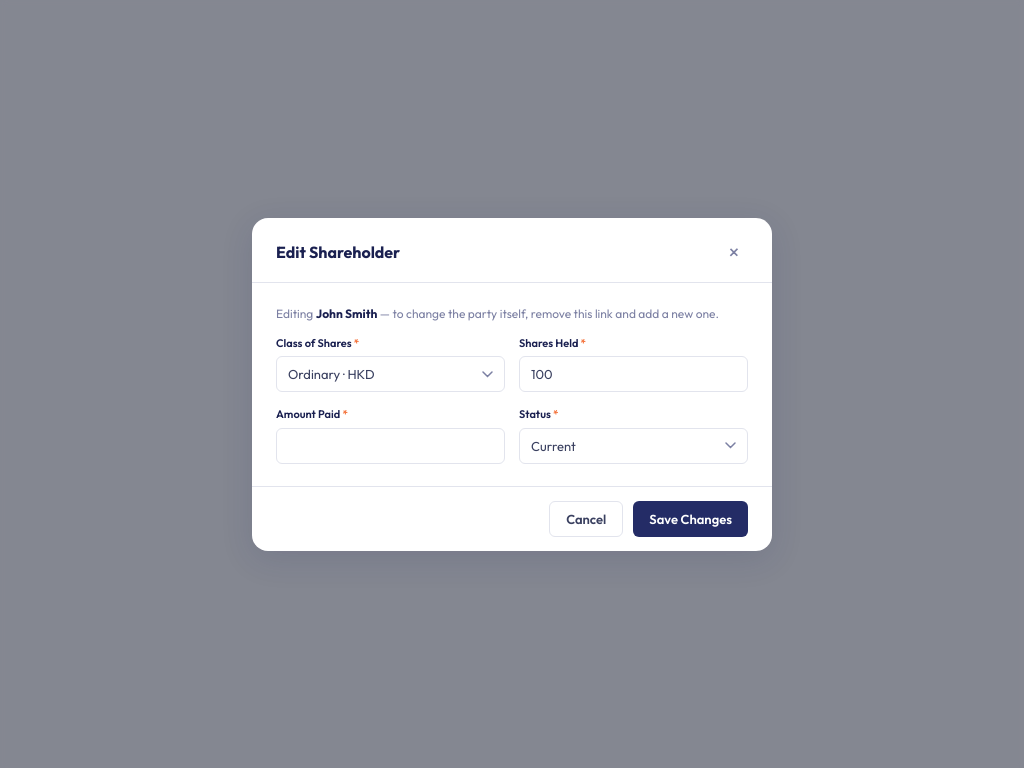
Scenario: LinkPartyModal › lets an ETL row keep a blank it arrived with, but not be cleared
Replace the text in the number field labelled "Shares Held *" with "250": (634, 374) [519,356,748,392]
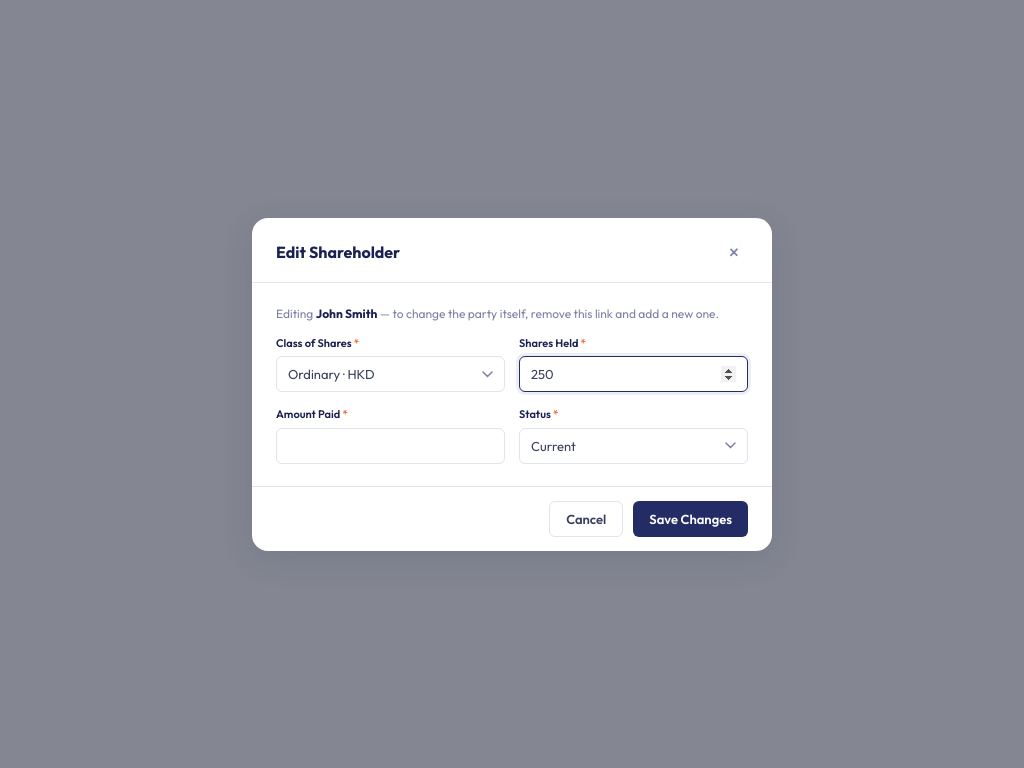
Click the button "Save Changes": (691, 518) [633,500,748,536]
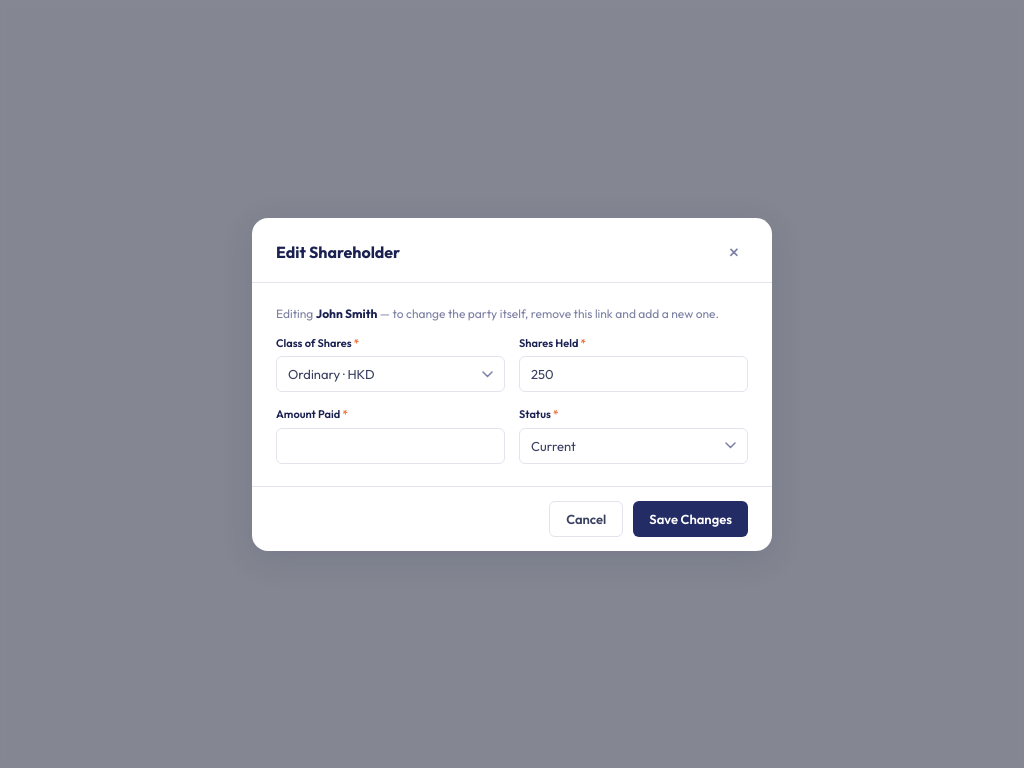
Clear the number field labelled "Shares Held *": (634, 374) [519,356,748,392]
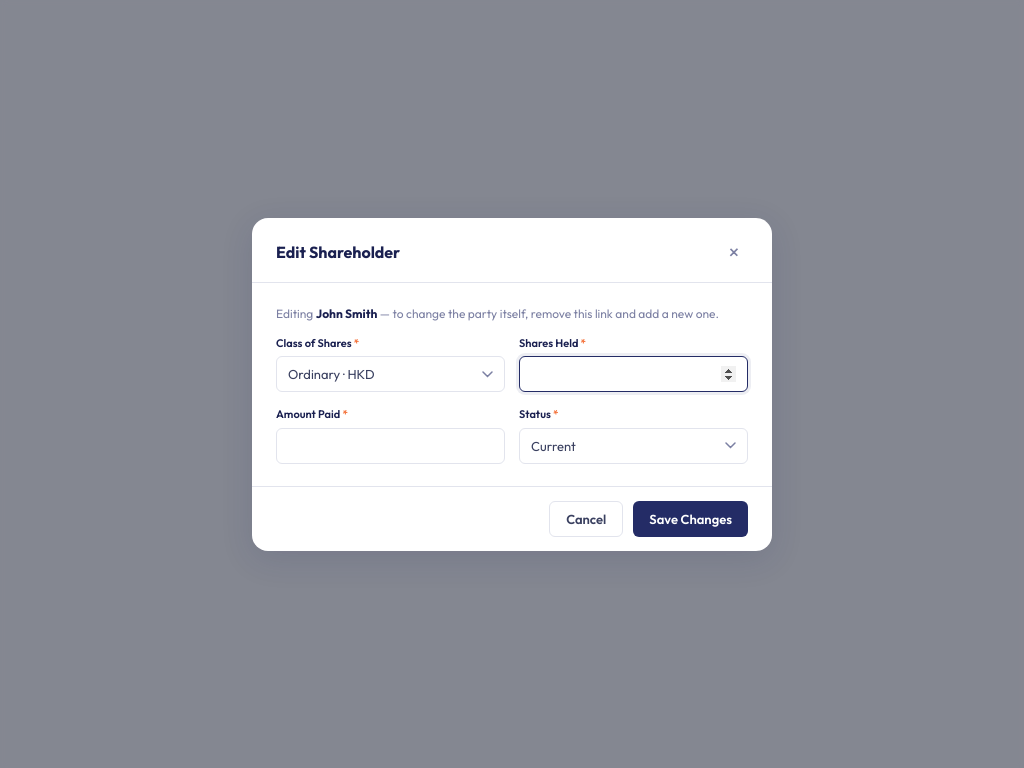
Click the button "Save Changes": (691, 518) [633,500,748,536]
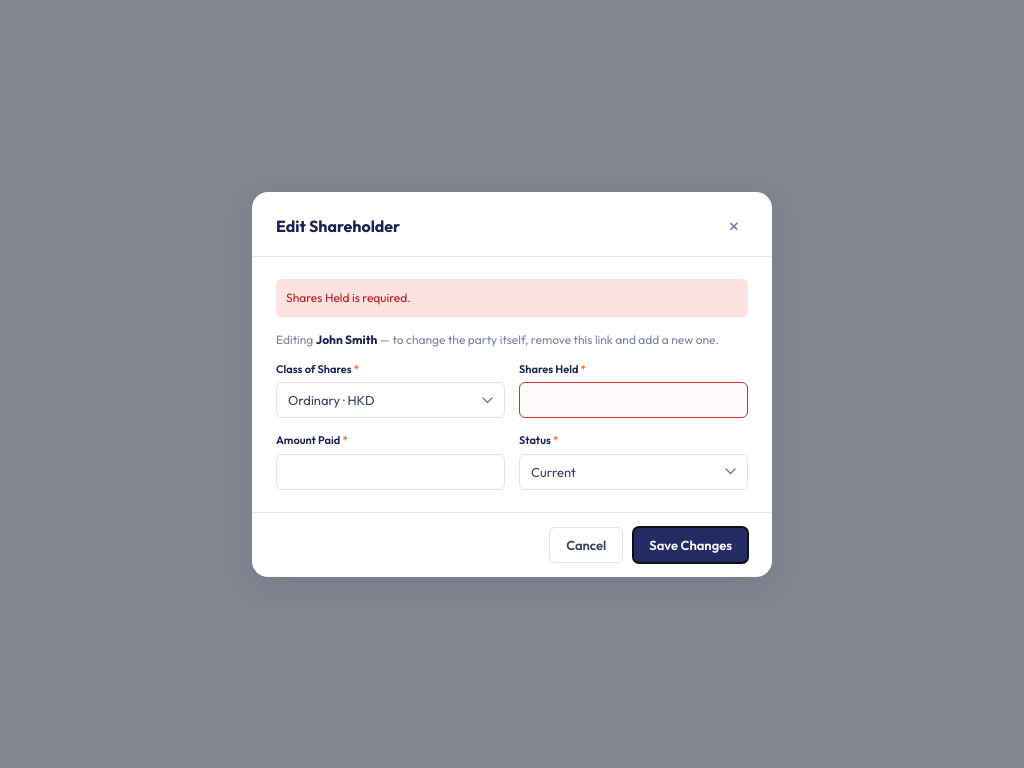
Check: the text "Shares Held is required." is shown, box [276,278,748,316]
